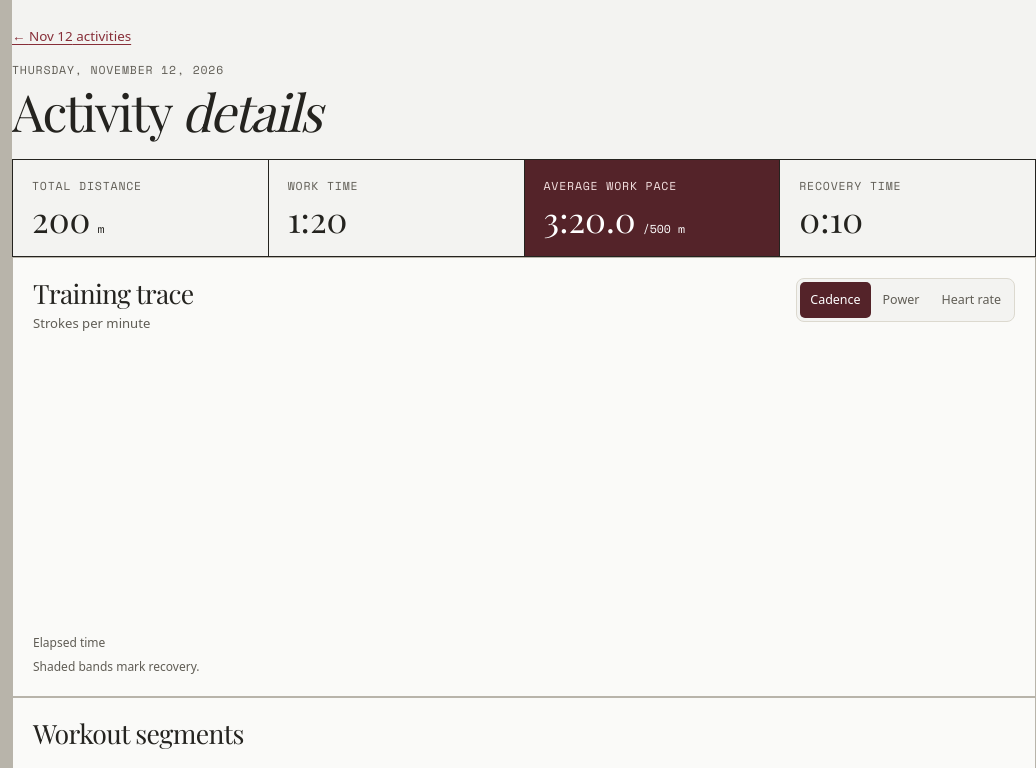
ActivityPage › selects the first recorded metric and changes the trace and units on click only
Click the button "Power".
click(901, 300)  # box [873,282,929,318]
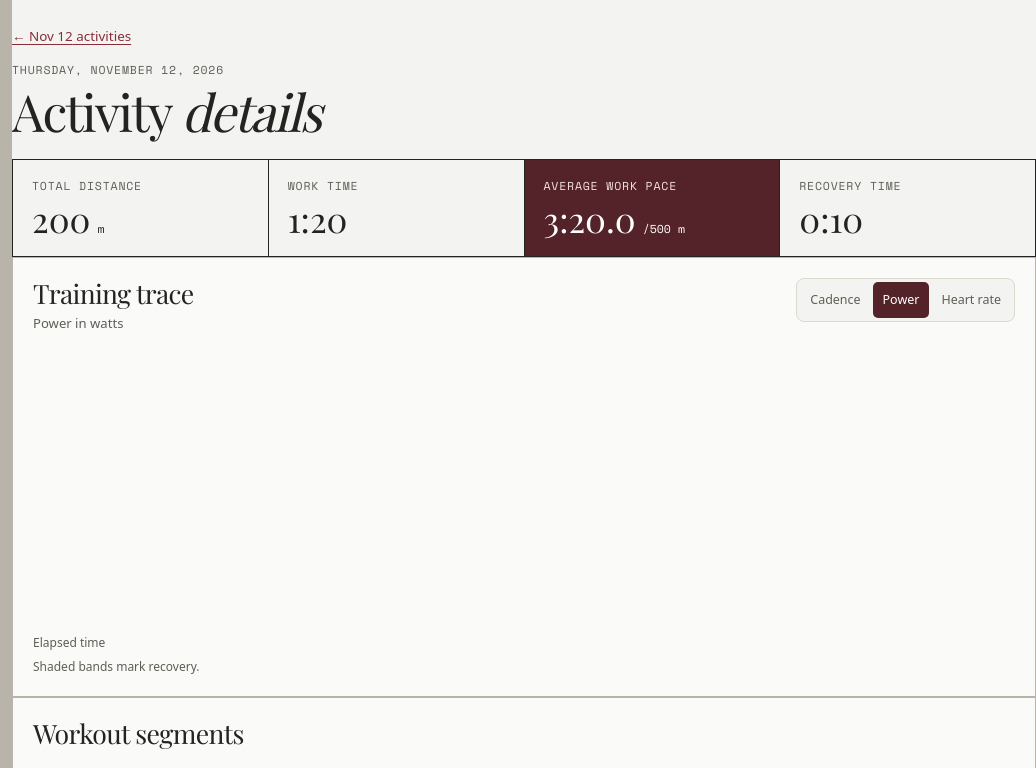
Result: the text "Power in watts" is shown at [33,314,123,332]
